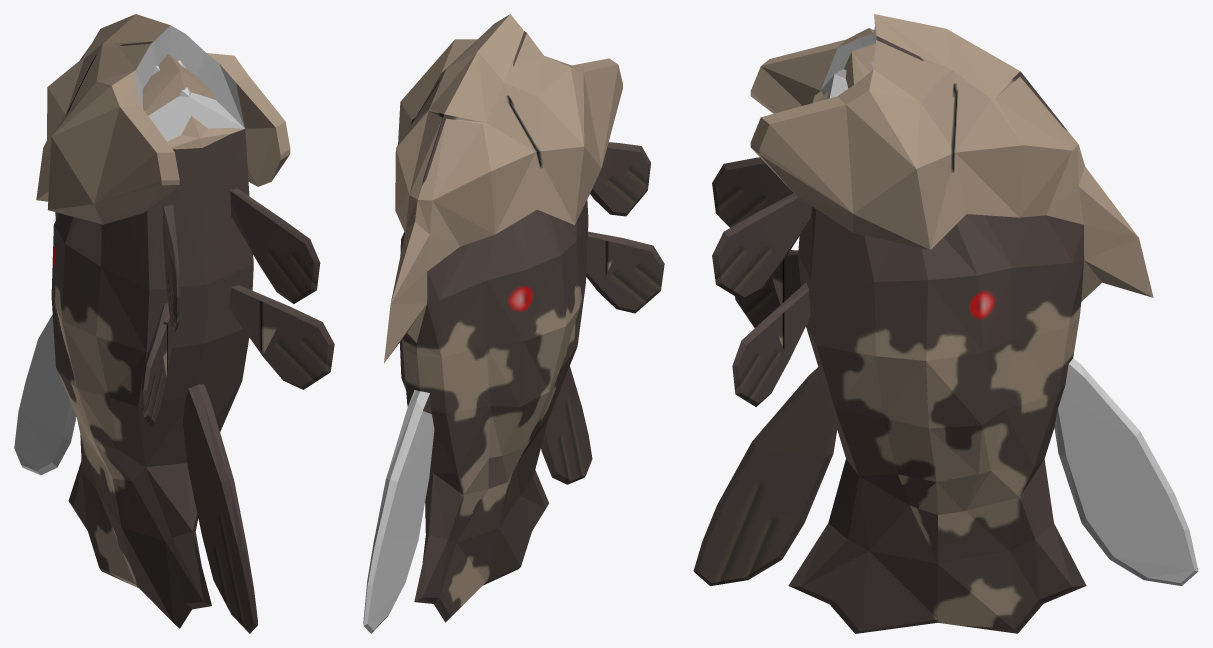
File: BR_Relicanth.obj
3 views of the same model, side by side, from view 1: azimuth 30°, elevation 25°; view 2: azimuth 150°, elevation 25°; view 3: azimuth 270°, elevation 25° (orthographic). The views are drawn at different scales.
Parts seen in each view (by area): view 1: glanth; view 2: glanth; view 3: glanth.
Boxes of the visible parts, x1,y1,x2,y2 form: glanth: (14, 14, 334, 633); glanth: (363, 14, 664, 633); glanth: (693, 14, 1198, 633).
Bounding box in the file's own units: 4.55 × 13.26 × 9.79.
